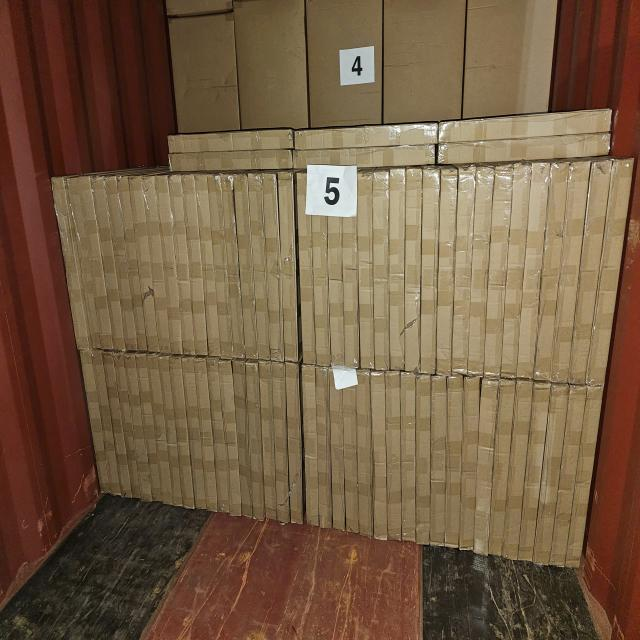Carton: (434, 167, 458, 376), (308, 172, 332, 366), (277, 171, 301, 364), (295, 171, 317, 365), (420, 164, 440, 374), (458, 376, 481, 550), (313, 364, 335, 532), (389, 166, 406, 371), (374, 172, 391, 369), (405, 166, 421, 374), (300, 366, 320, 532), (443, 375, 461, 553), (384, 371, 402, 540), (371, 372, 389, 540), (400, 369, 417, 544), (329, 366, 346, 533), (431, 376, 446, 547), (416, 374, 429, 548)
